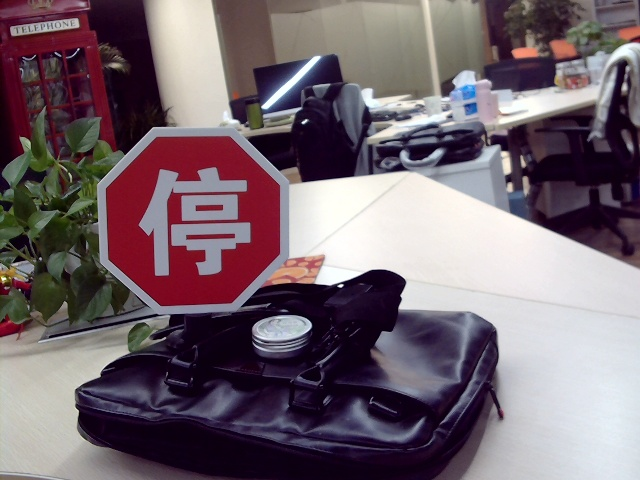stop: (137, 162, 254, 276)
